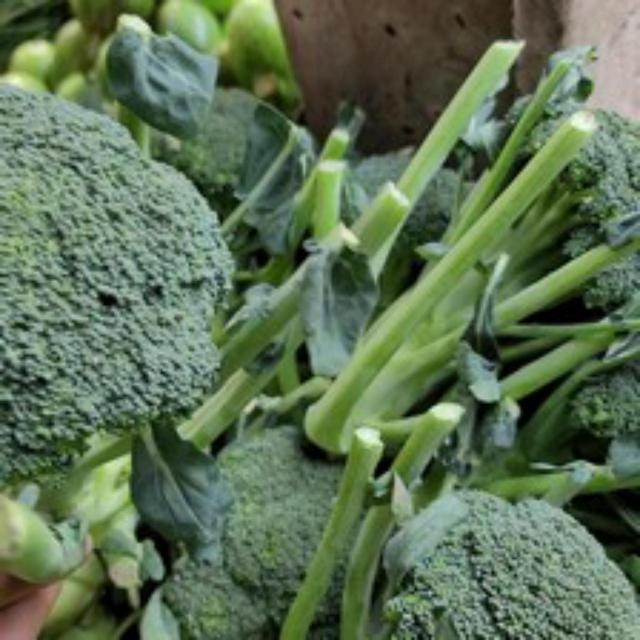broccoli: (0, 56, 232, 494)
